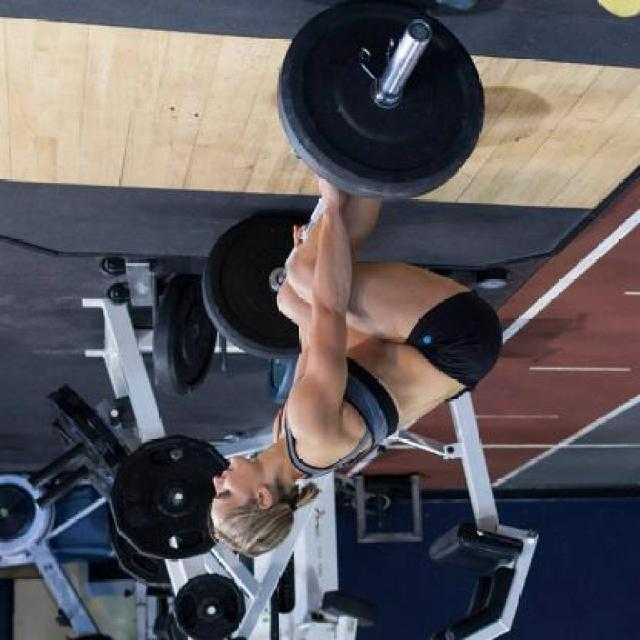Barbell: (401, 16, 434, 46)
